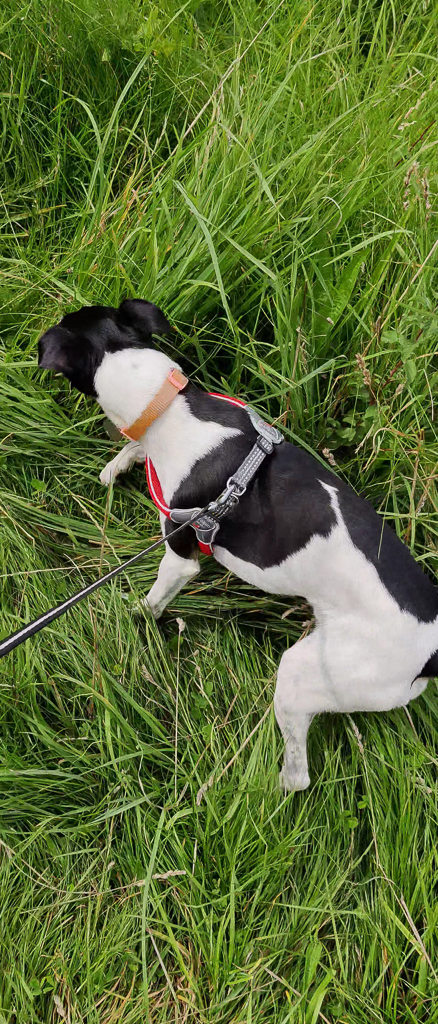Dog: (23, 284, 438, 810)
